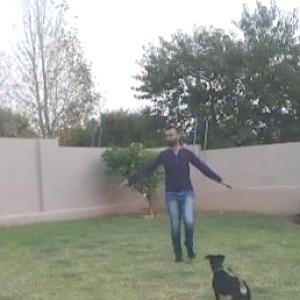land: (95, 117, 238, 292)
